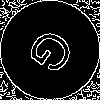G: (25, 25, 85, 83)
